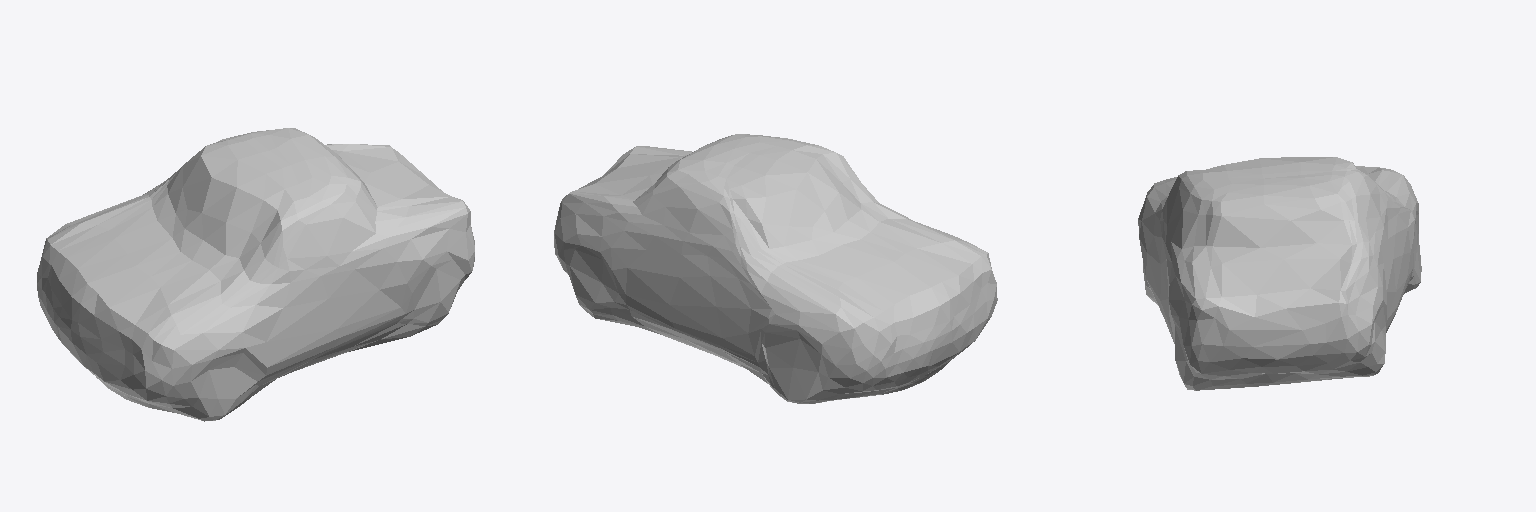
The model's file is video3_157.obj.
3 renders of one model, left to right at view 1: azimuth 30°, elevation 25°; view 2: azimuth 150°, elevation 25°; view 3: azimuth 270°, elevation 25°, orthographic.
Bounding box in the file's own units: 1 × 0.4893 × 0.6655.